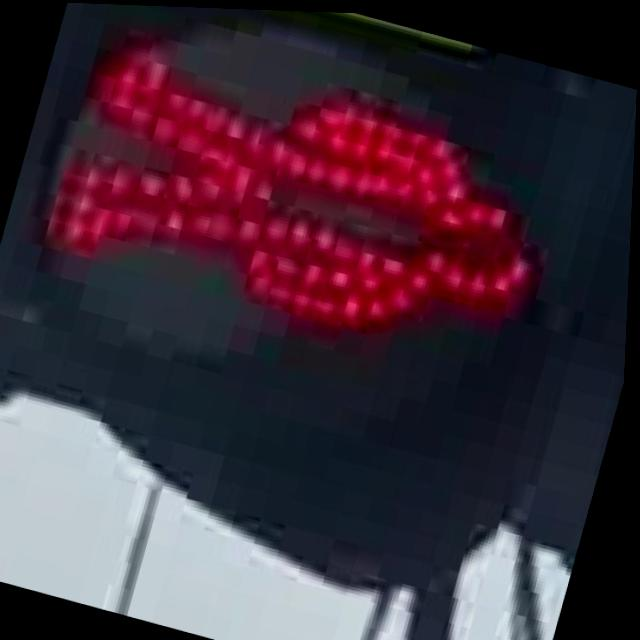red_light: (26, 17, 599, 403)
